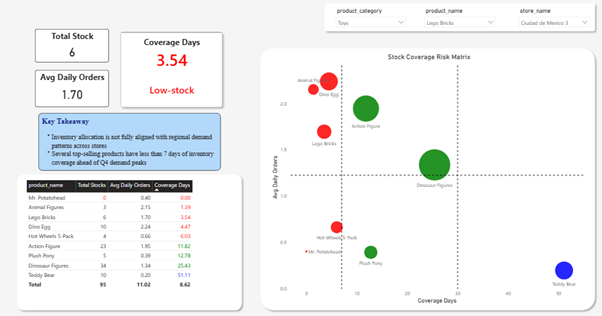

Layout of this report page (visuals, bound fields, positions):
{"tool":"powerbi","page":{"name":"Inventory","canvas":[1500,800],"ordinal":2},"visuals":[{"type":"shape","box":[798.3,0,688.3,88.3],"z":0},{"type":"shape","box":[36.7,425,575,355],"z":1000},{"type":"shape","box":[640,111.7,846.7,668.3],"z":2000},{"type":"slicer","fields":{"Values":["toy_store products_clean.product_name"]},"box":[1045,15,196.7,73.3],"z":3000},{"type":"slicer","fields":{"Values":["toy_store stores_clean.store_name"]},"box":[1278.3,15,196.7,73.3],"z":4000},{"type":"scatterChart","title":"Stock Coverage Risk Matrix","fields":{"Category":["toy_store products_clean.product_name"],"X":["toy_store inventory.Coverage Days"],"Y":["toy_store inventory.Avg daily orders"],"Size":["toy_store inventory.Total Stocks"]},"box":[671.7,131.7,790,628.3],"z":5000},{"type":"card","title":"Total Stock","fields":{"Values":["toy_store inventory.Total Stocks"]},"box":[90,73.3,183.3,83.3],"z":6000},{"type":"slicer","fields":{"Values":["toy_store products_clean.product_category"]},"box":[825,15,195,73.3],"z":7000},{"type":"cardVisual","fields":{"Data":["toy_store inventory.Coverage Days"]},"box":[273.3,51.7,310,245],"z":8000},{"type":"card","title":"Avg Daily Orders","fields":{"Values":["toy_store inventory.Avg daily orders"]},"box":[90,175,183.3,91.7],"z":9000},{"type":"tableEx","fields":{"Values":["toy_store products_clean.product_name","toy_store inventory.Total Stocks","toy_store inventory.Avg daily orders","toy_store inventory.Coverage Days"]},"box":[63.3,443.3,533.3,316.7],"z":10000},{"type":"textbox","box":[98.3,281.7,451.7,143.3],"z":11000}]}

Visuals, with their boxes in screenshot pixels (x1, y1, x2, y2), scaled from the page's 1500x800 canvas onto the 602x316 screenshot:
shape: [320, 0, 597, 35]
shape: [15, 168, 245, 308]
shape: [257, 44, 597, 308]
slicer - toy_store products_clean.product_name: [419, 6, 498, 35]
slicer - toy_store stores_clean.store_name: [513, 6, 592, 35]
"Stock Coverage Risk Matrix" scatterChart: [270, 52, 587, 300]
"Total Stock" card: [36, 29, 110, 62]
slicer - toy_store products_clean.product_category: [331, 6, 409, 35]
cardVisual - toy_store inventory.Coverage Days: [110, 20, 234, 117]
"Avg Daily Orders" card: [36, 69, 110, 105]
tableEx - toy_store products_clean.product_name x toy_store inventory.Total Stocks: [25, 175, 239, 300]
textbox: [39, 111, 221, 168]
